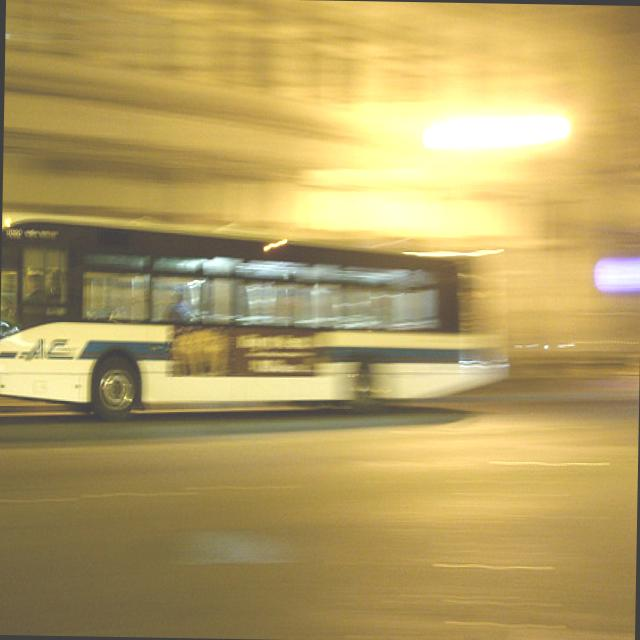Vehicle: (0, 206, 459, 429)
